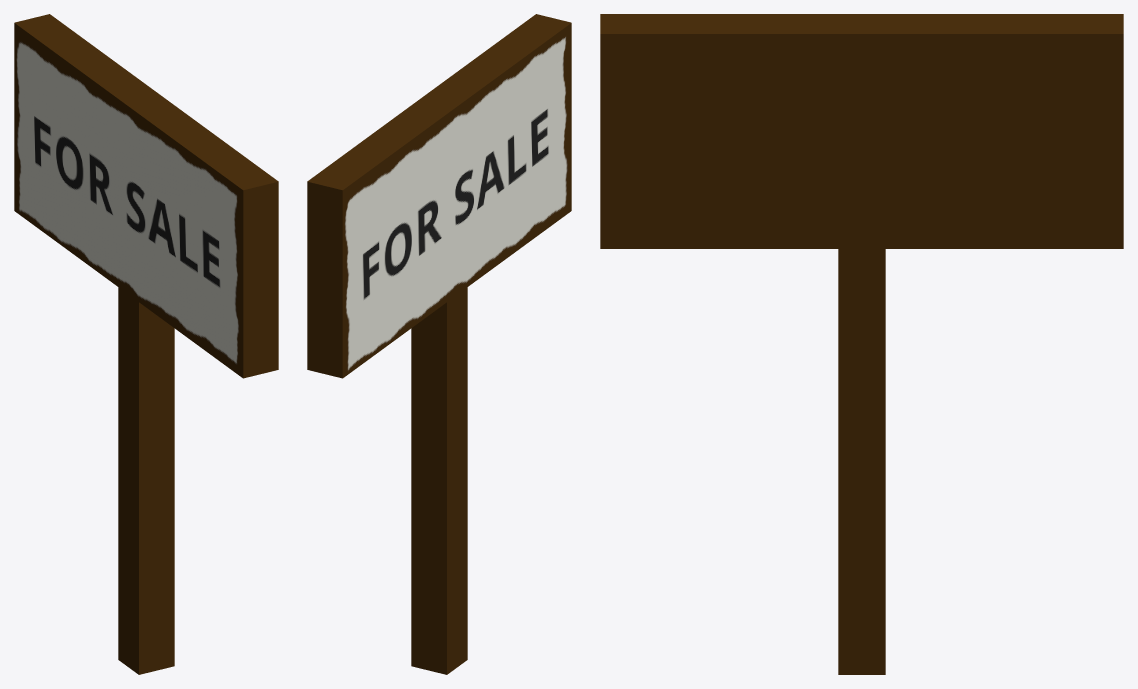
File: signFosSale.fbx
3 views of the same model, side by side, from view 1: azimuth 30°, elevation 25°; view 2: azimuth 150°, elevation 25°; view 3: azimuth 270°, elevation 25° (orthographic). The views are drawn at different scales.
Visible parts, largest first — view 1: Cube; view 2: Cube; view 3: Cube.
Part boxes in pixels (box(x1,y1,x2,y2)): Cube: box(14, 14, 278, 674); Cube: box(307, 14, 571, 674); Cube: box(600, 14, 1123, 674).
Size of the model in its own units: 0.1 by 1.5 by 1.11.
